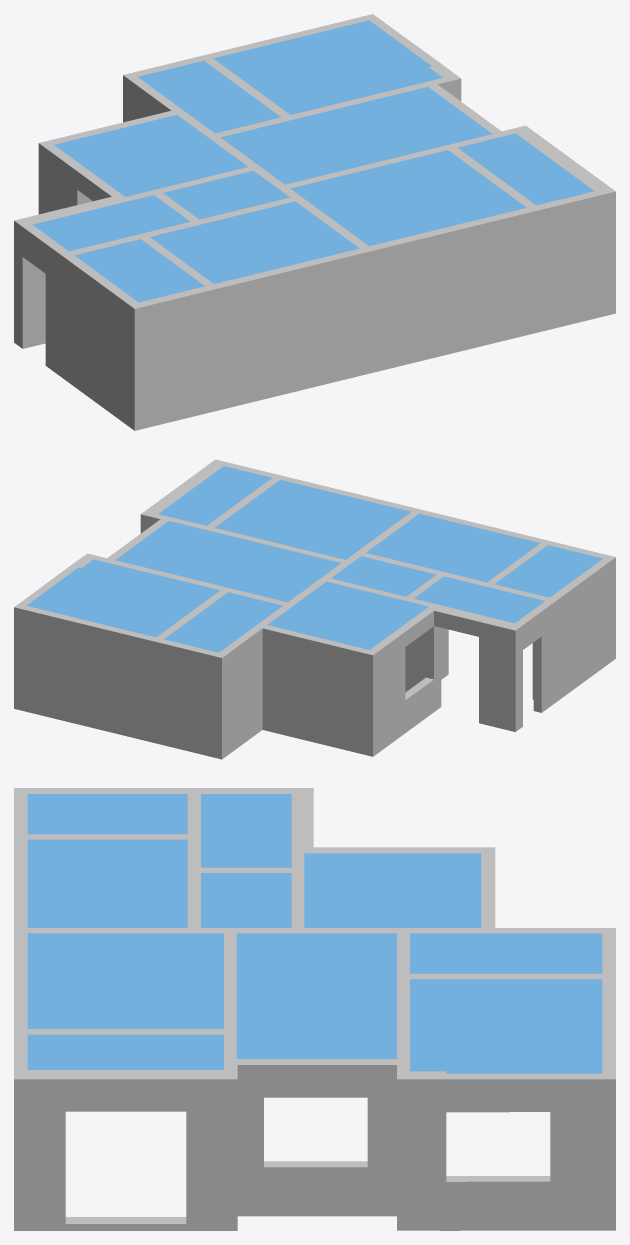
The model's file is output_boolean_regions_beam_end_snap.fbx.
3 views of the same model, one above another, from view 1: azimuth 30°, elevation 25°; view 2: azimuth 150°, elevation 25°; view 3: azimuth 270°, elevation 25° (orthographic). The views are drawn at different scales.
Parts seen in each view (by area): view 1: 承重墙_围合002, 承重墙_围合001, 承重墙_围合000, 布尔吊顶块006, 布尔吊顶块002, 布尔吊顶块009, 布尔吊顶块001, 布尔吊顶块007, 布尔吊顶块008, 布尔吊顶块003, 布尔吊顶块004, 布尔吊顶块000 (+17 smaller); view 2: 承重墙_围合011, 承重墙_围合009, 布尔吊顶块006, 承重墙_围合000, 布尔吊顶块002, 布尔吊顶块009, 承重墙_围合010, 承重墙_围合008, 布尔吊顶块001, 布尔吊顶块007, 承重墙_围合012, 布尔吊顶块008 (+22 smaller); view 3: 布尔吊顶块006, 布尔吊顶块002, 布尔吊顶块009, 布尔吊顶块001, 布尔吊顶块007, 承重墙_围合008, 承重墙_围合002, 承重墙_围合007, 布尔吊顶块008, 布尔吊顶块003, 布尔吊顶块004, 布尔吊顶块000 (+28 smaller).
Boxes of the visible parts, x1,y1,x2,y2 form: 承重墙_围合002: [360, 176, 615, 374]; 承重墙_围合001: [159, 248, 365, 423]; 承重墙_围合000: [45, 241, 164, 430]; 布尔吊顶块006: [221, 87, 491, 184]; 布尔吊顶块002: [290, 150, 526, 246]; 布尔吊顶块009: [213, 20, 442, 114]; 布尔吊顶块001: [150, 201, 359, 283]; 布尔吊顶块007: [54, 115, 247, 196]; 布尔吊顶块008: [138, 60, 280, 133]; 布尔吊顶块003: [458, 133, 594, 205]; 布尔吊顶块004: [33, 195, 190, 251]; 布尔吊顶块000: [75, 239, 204, 302]; 承重墙_围合011: [262, 625, 405, 756]; 承重墙_围合009: [83, 621, 198, 752]; 布尔吊顶块006: [115, 521, 340, 602]; 承重墙_围合000: [532, 551, 615, 712]; 布尔吊顶块002: [215, 480, 411, 559]; 布尔吊顶块009: [26, 559, 219, 637]; 承重墙_围合010: [194, 602, 294, 759]; 承重墙_围合008: [14, 591, 87, 725]; 布尔吊顶块001: [366, 513, 540, 582]; 布尔吊顶块007: [267, 581, 428, 649]; 承重墙_围合012: [479, 616, 522, 731]; 布尔吊顶块008: [164, 592, 282, 652]; 布尔吊顶块006: [236, 933, 396, 1058]; 布尔吊顶块002: [27, 933, 223, 1028]; 布尔吊顶块009: [410, 979, 602, 1073]; 布尔吊顶块001: [27, 839, 187, 927]; 布尔吊顶块007: [304, 853, 481, 927]; 承重墙_围合008: [550, 1029, 615, 1230]; 承重墙_围合002: [14, 928, 65, 1230]; 承重墙_围合007: [397, 1015, 446, 1230]; 布尔吊顶块008: [410, 933, 602, 973]; 布尔吊顶块003: [27, 1034, 223, 1069]; 布尔吊顶块004: [201, 794, 291, 867]; 布尔吊顶块000: [27, 794, 187, 834].
Bounding box in the file's own units: 11.99 × 2.91 × 10.47.
